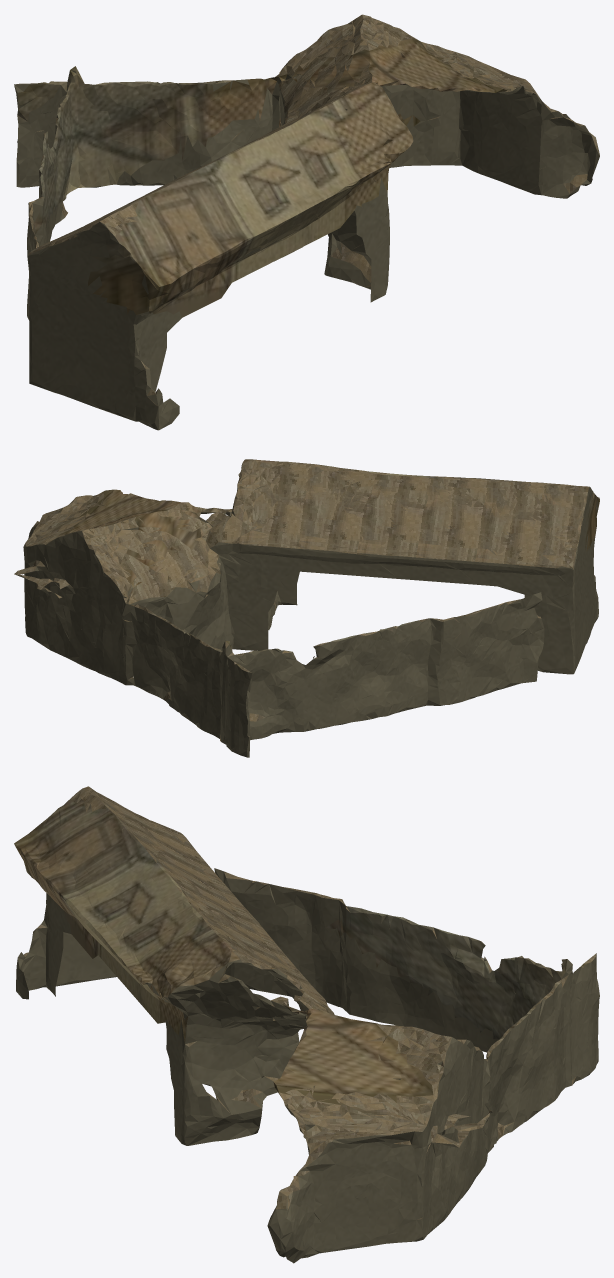
The picture shows the model from 3 angles, top to bottom: view 1: azimuth 30°, elevation 25°; view 2: azimuth 150°, elevation 25°; view 3: azimuth 270°, elevation 25°; orthographic projection. The views are drawn at different scales.
Parts seen in each view (by area): view 1: painted, wall, roof; view 2: wall, roof, painted; view 3: wall, painted, roof.
Part boxes in pixels (bbox=[...]): painted: bbox=[17, 38, 506, 317]; wall: bbox=[14, 70, 599, 430]; roof: bbox=[16, 14, 599, 405]; wall: bbox=[15, 475, 598, 757]; roof: bbox=[14, 459, 597, 741]; painted: bbox=[60, 459, 599, 668]; wall: bbox=[16, 868, 599, 1263]; painted: bbox=[14, 800, 590, 1104]; roof: bbox=[24, 786, 596, 1223].
Size of the model in its own units: 8.2 by 2.46 by 6.6.
Materials: 3 (3 with a texture image).
